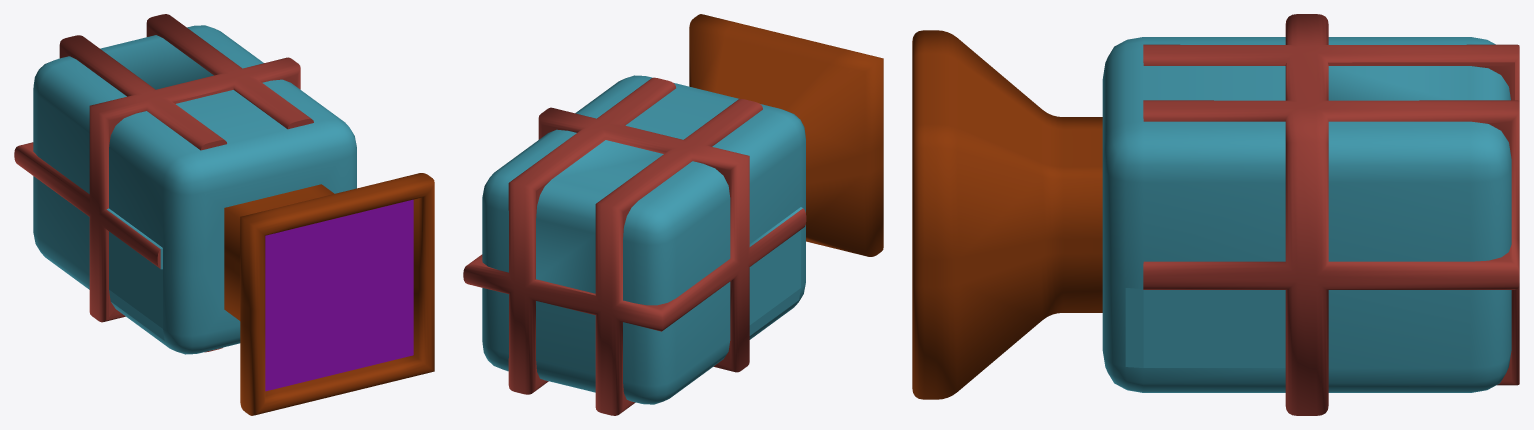
The model's file is Foco.fbx.
3 renders of one model, left to right at view 1: azimuth 30°, elevation 25°; view 2: azimuth 150°, elevation 25°; view 3: azimuth 270°, elevation 25°, orthographic. The views are drawn at different scales.
Parts seen in each view (by area): view 1: Box008; view 2: Box008; view 3: Box008.
Boxes of the visible parts, left/top/right/bottom form: Box008: left=14, top=14, right=434, bottom=415; Box008: left=463, top=14, right=883, bottom=415; Box008: left=912, top=14, right=1519, bottom=415.
Bounding box in the file's own units: 0.74 × 0.74 × 1.49.
